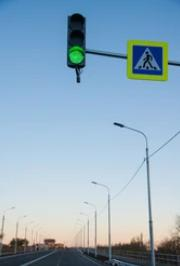green_light: (67, 13, 86, 69)
